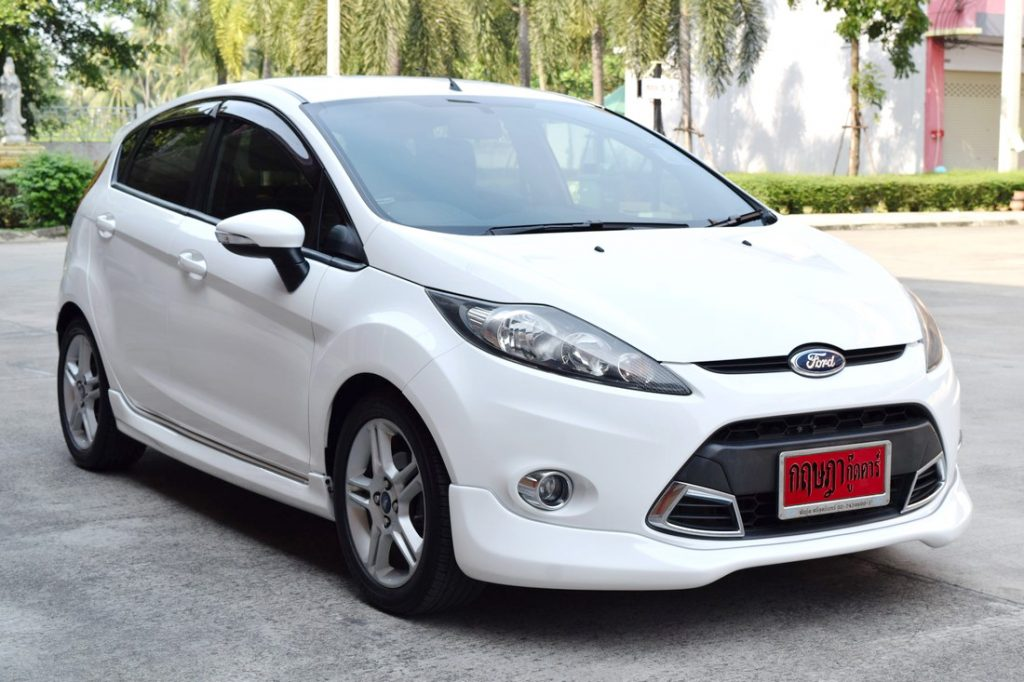sedan: (50, 71, 976, 615)
